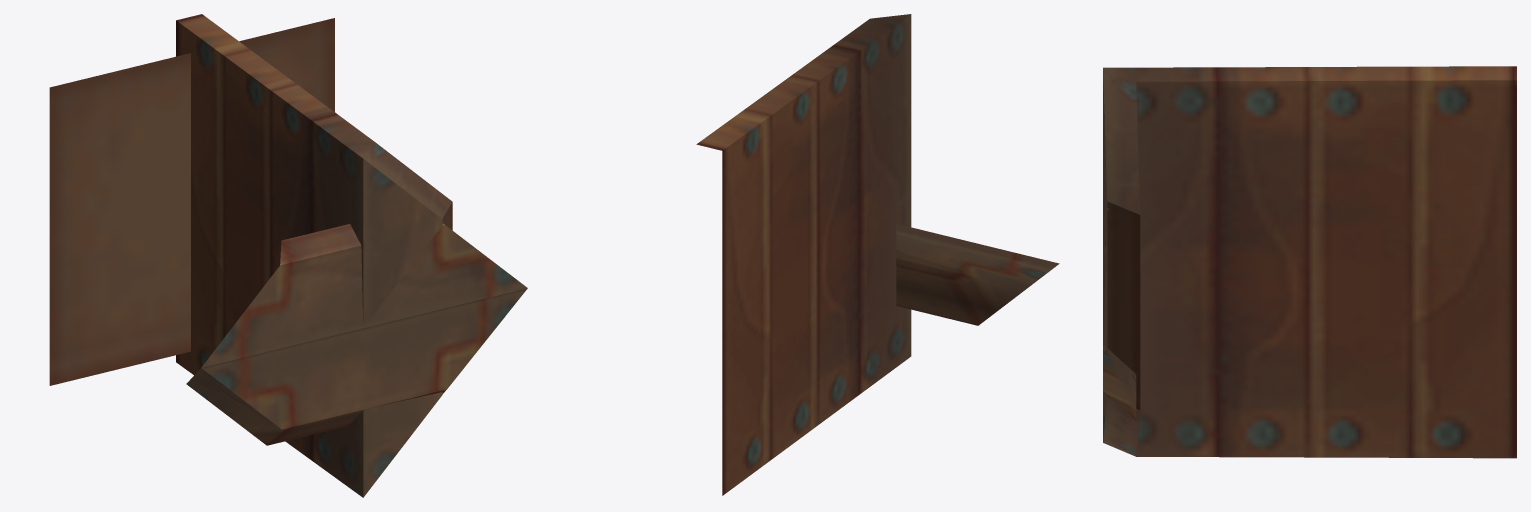
Rendered from breakable_bits.glb.
3 renders of one model, left to right at view 1: azimuth 30°, elevation 25°; view 2: azimuth 150°, elevation 25°; view 3: azimuth 270°, elevation 25°, orthographic. The views are drawn at different scales.
Visible parts, largest first — view 1: castle_fire.breakable_bits-MeshSets[face_side].Mesh[0], castle_fire.breakable_bits-MeshSets[face_base].Mesh[0], castle_fire.breakable_bits-MeshSets[face_back].Mesh[0], castle_fire.breakable_bits-MeshSets[face_front].Mesh[0]; view 2: castle_fire.breakable_bits-MeshSets[face_side].Mesh[0], castle_fire.breakable_bits-MeshSets[face_back].Mesh[0]; view 3: castle_fire.breakable_bits-MeshSets[face_side].Mesh[0], castle_fire.breakable_bits-MeshSets[face_back].Mesh[0].
Boxes of the visible parts, box(x1,y1,x2,y2) form: castle_fire.breakable_bits-MeshSets[face_side].Mesh[0]: box(176, 14, 452, 497); castle_fire.breakable_bits-MeshSets[face_base].Mesh[0]: box(49, 18, 334, 385); castle_fire.breakable_bits-MeshSets[face_back].Mesh[0]: box(186, 288, 527, 445); castle_fire.breakable_bits-MeshSets[face_front].Mesh[0]: box(201, 223, 527, 367); castle_fire.breakable_bits-MeshSets[face_side].Mesh[0]: box(696, 14, 911, 495); castle_fire.breakable_bits-MeshSets[face_back].Mesh[0]: box(896, 224, 1059, 325); castle_fire.breakable_bits-MeshSets[face_side].Mesh[0]: box(1103, 66, 1516, 458); castle_fire.breakable_bits-MeshSets[face_back].Mesh[0]: box(1103, 344, 1136, 420).
Size of the model in its own units: 1.01 by 1.01 by 1.
Materials: 1 (1 with a texture image).
